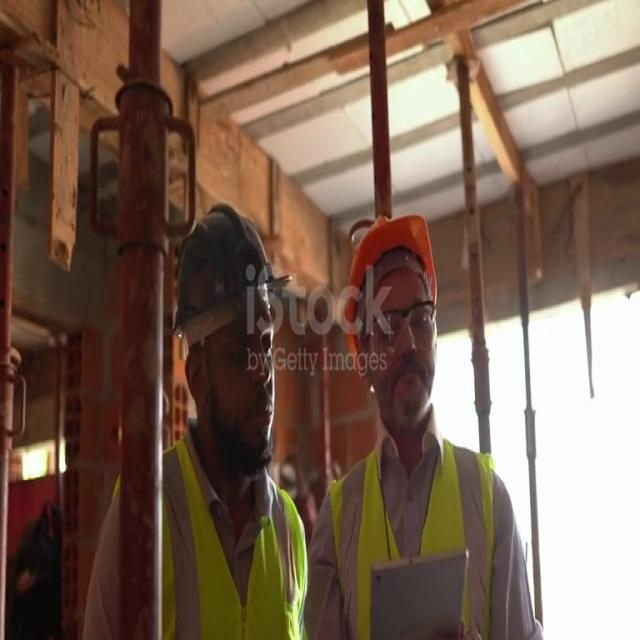capacete: (324, 208, 446, 381), (165, 202, 291, 362)
